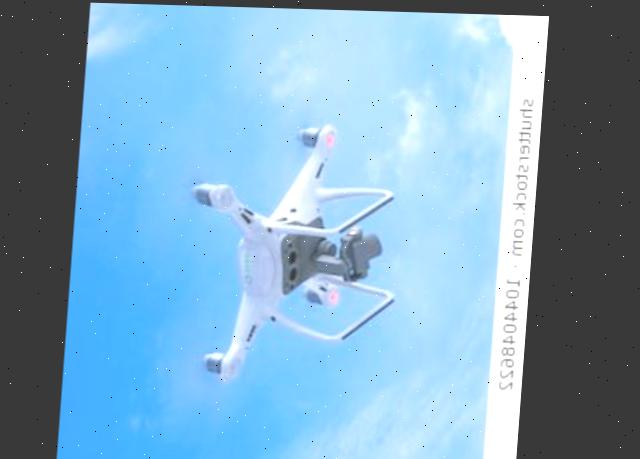drone: (153, 72, 424, 419)
